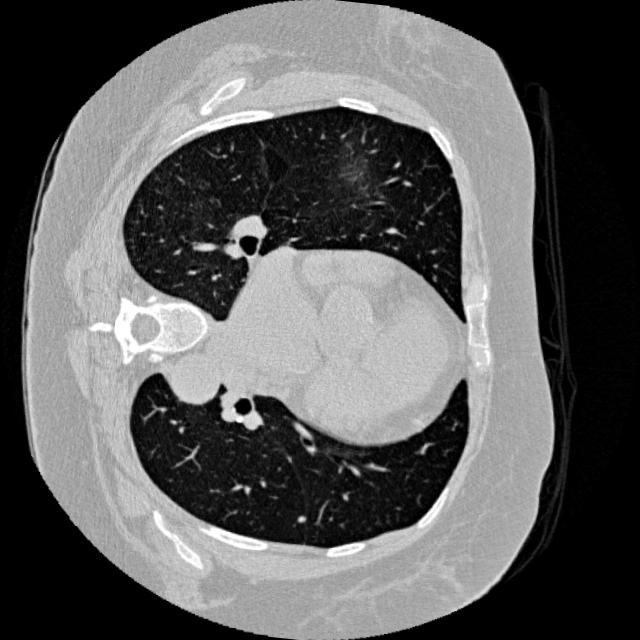nodule: (290, 507, 312, 529)
